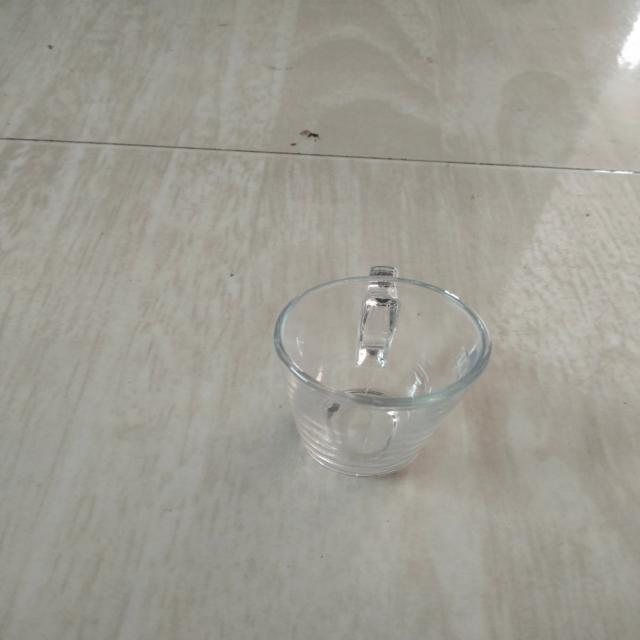glass-VX4N: (276, 264, 494, 476)
